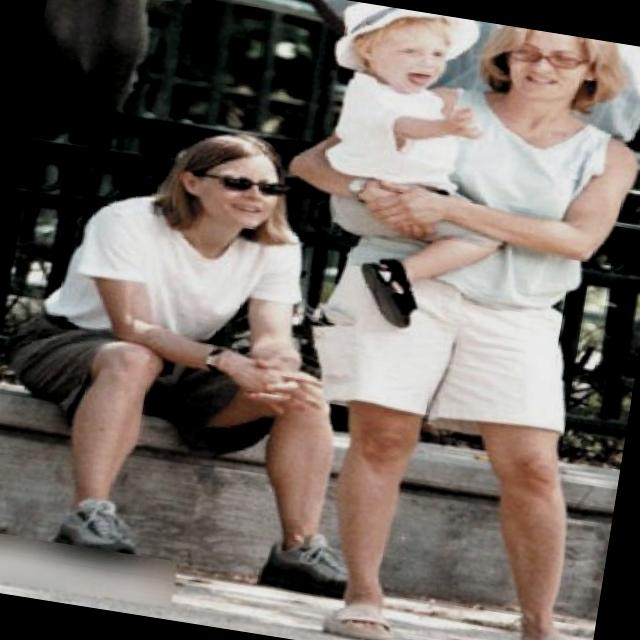Person: (317, 11, 640, 640), (0, 97, 375, 596)
